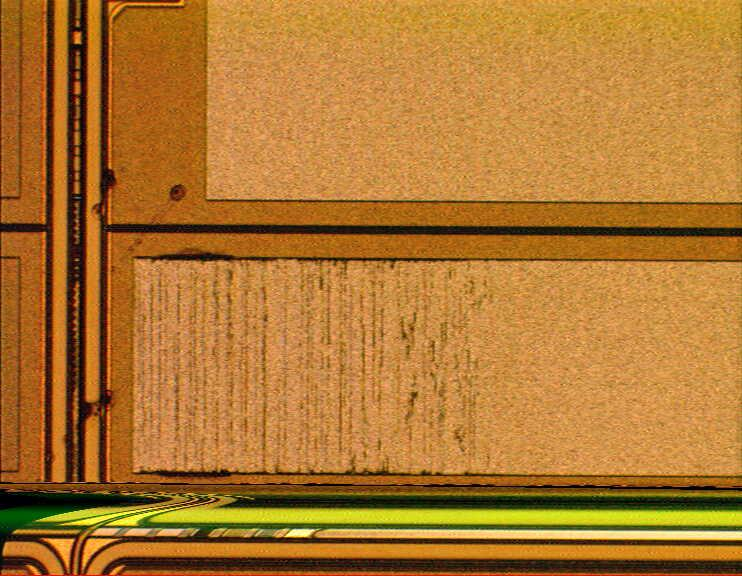SEZ BURNT: (78, 161, 532, 487)
